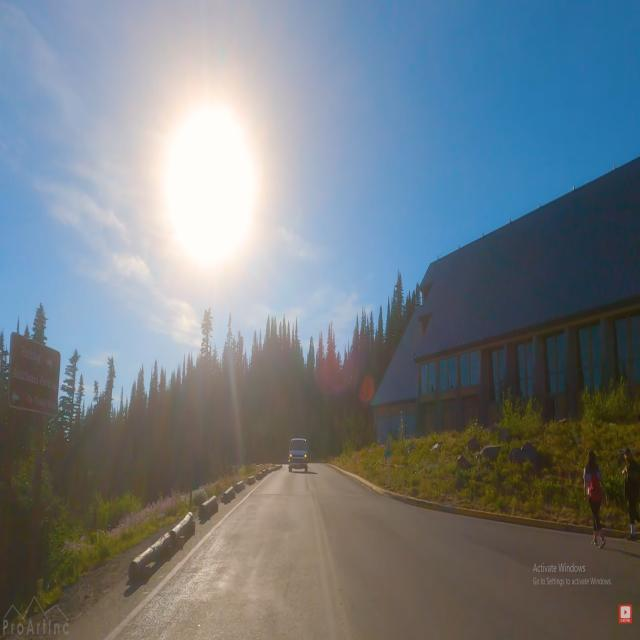sun: (132, 76, 294, 312)
